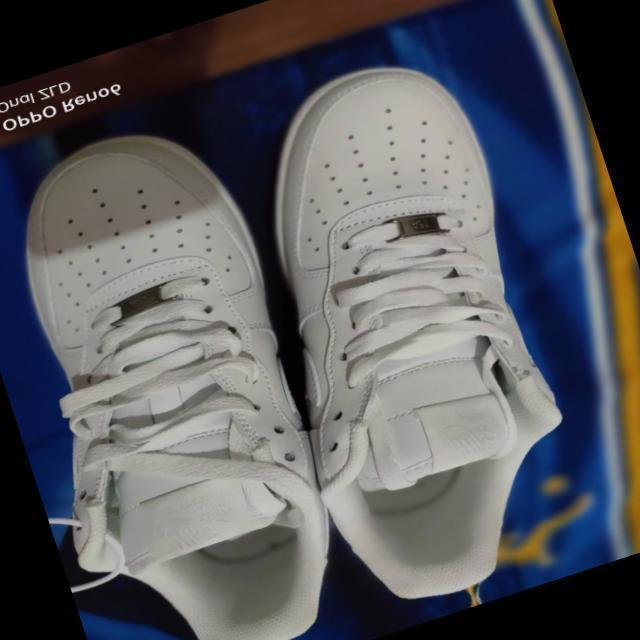nike fake air force: (195, 34, 617, 623), (0, 107, 381, 640)
